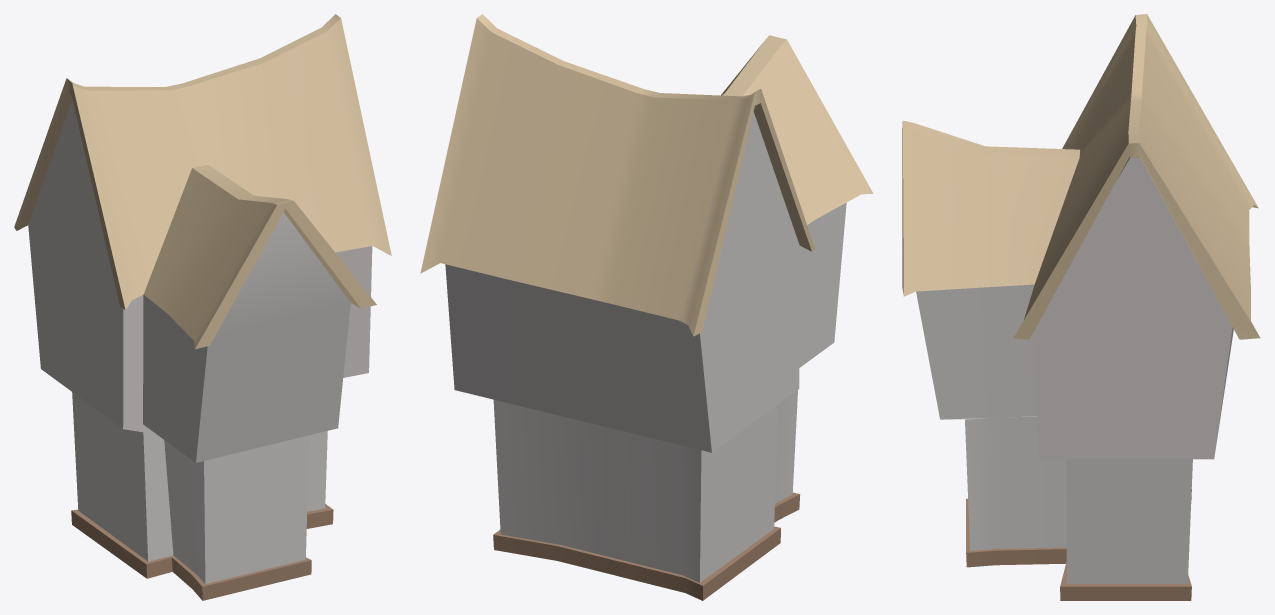
The model's file is Mod_House03.fbx.
The picture shows the model from 3 angles, left to right: view 1: azimuth 30°, elevation 25°; view 2: azimuth 150°, elevation 25°; view 3: azimuth 270°, elevation 25°; orthographic projection. The views are drawn at different scales.
Visible parts, largest first — view 1: House_03; view 2: House_03; view 3: House_03.
Boxes of the visible parts, box(x1,y1,x2,y2) form: House_03: box(14, 14, 391, 600); House_03: box(420, 14, 873, 600); House_03: box(902, 14, 1260, 600).
Bounding box in the file's own units: 559 × 948 × 644.
